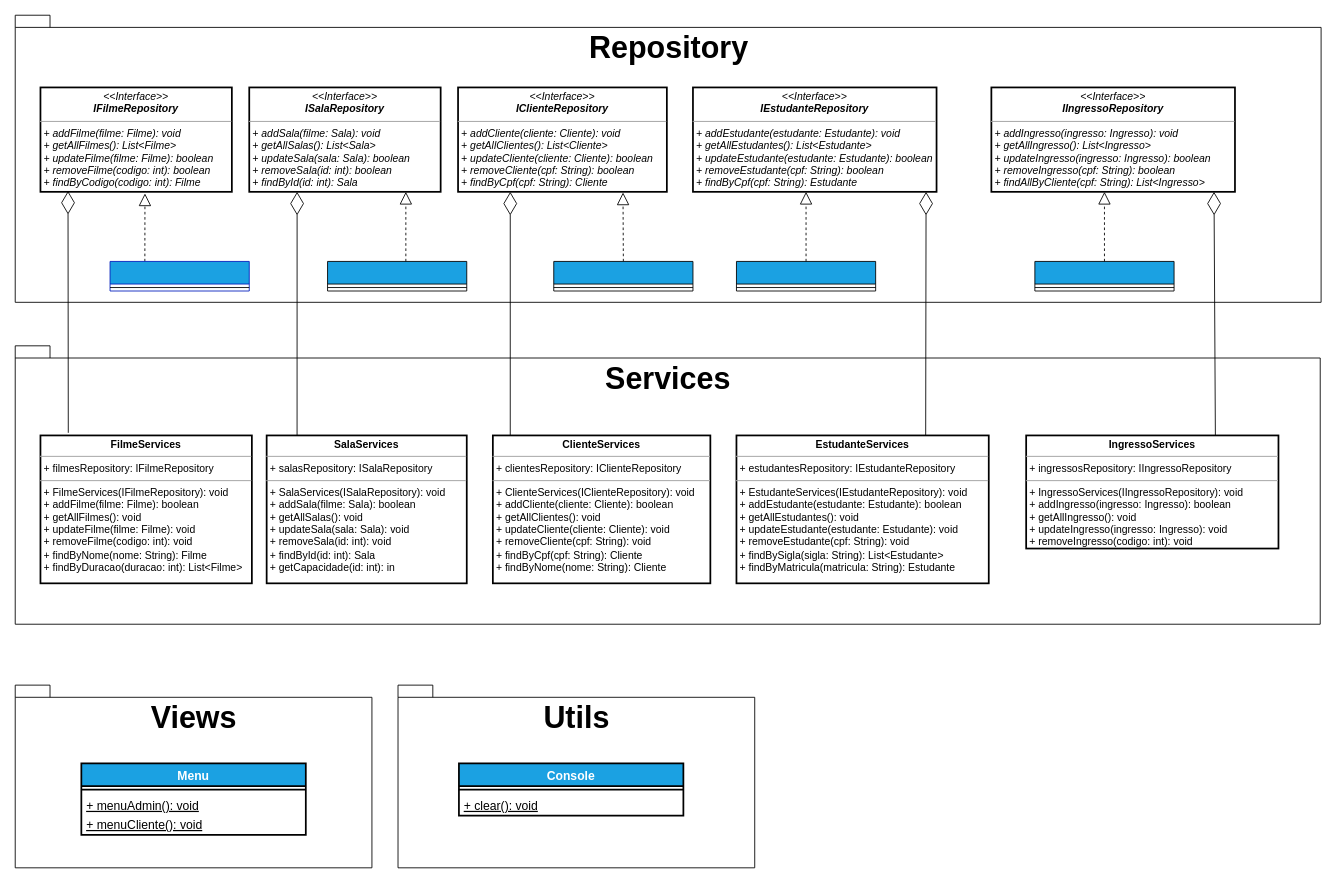
Some shapes in this 1336 by 883 pixel diagram are drawn without their labels. The shapes that lost their labels are listed below. From the top down, each one's centre as x and y in pixels, then its label:
At [179,276]: "FilmeFileRepository".
At [397,276]: "SalaFileRepository".
At [623,276]: "ClienteFileRepository".
At [806,276]: "EstudanteFileRepository".
At [1104,276]: "IngressoFileRepository".
